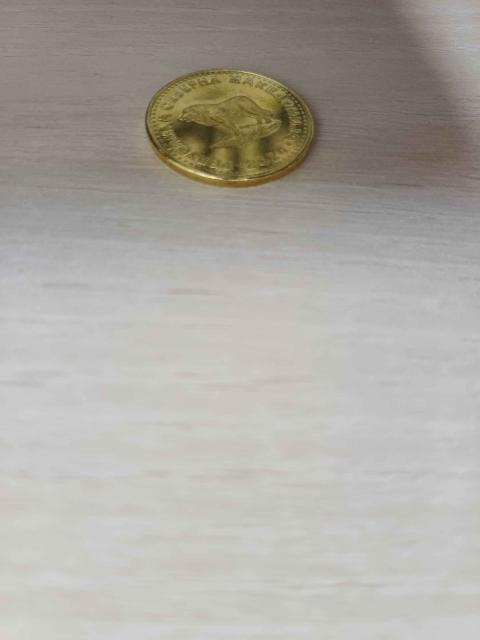1_coin: (146, 70, 313, 186)
